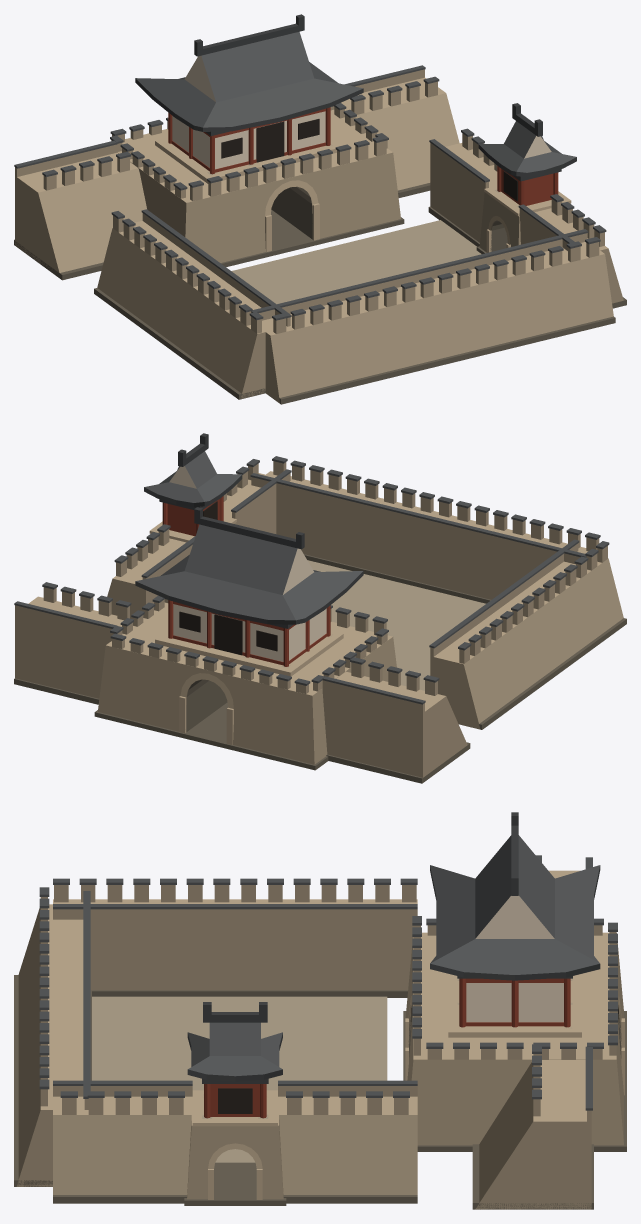
File: K05a_far.glb
3 views of the same model, one above another, from view 1: azimuth 30°, elevation 25°; view 2: azimuth 150°, elevation 25°; view 3: azimuth 270°, elevation 25° (orthographic). The views are drawn at different scales.
Parts seen in each view (by area): view 1: K05a_far; view 2: K05a_far; view 3: K05a_far.
Part boxes in pixels (x1,y1,x2,y2): K05a_far: (14, 14, 626, 404); K05a_far: (14, 433, 626, 783); K05a_far: (14, 812, 626, 1209).
Size of the model in its own units: 48.8 by 21.68 by 50.4.
